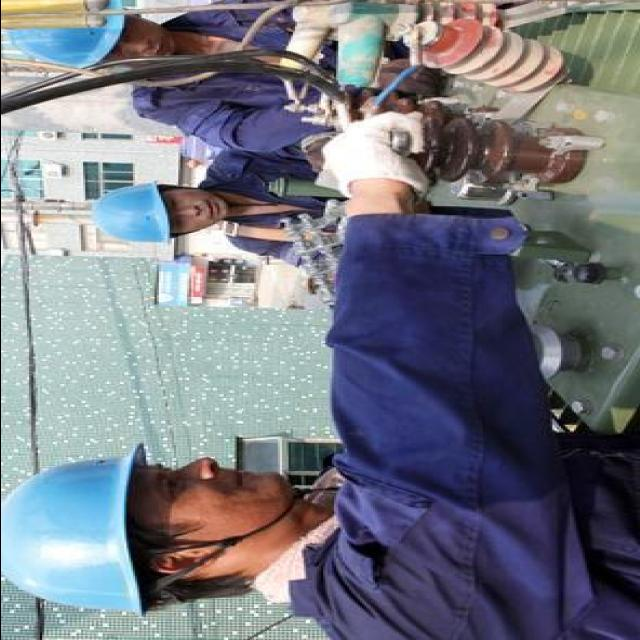helmet: (0, 438, 158, 618), (7, 0, 128, 80), (90, 176, 168, 248)
